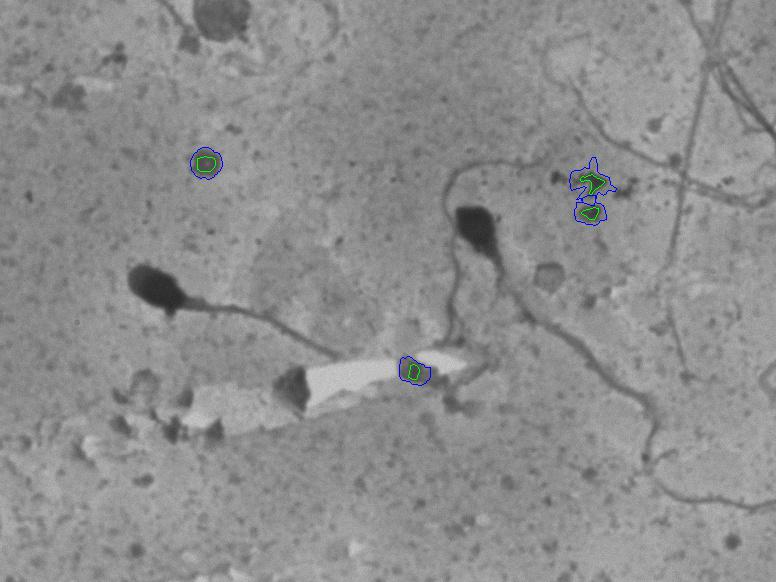Abnormal: (445, 184, 717, 520), (113, 187, 344, 361)
